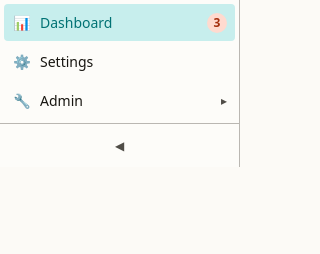
Test case: Sidebar › renders nested items when section expanded
Expected: the text "Users" is not shown
Click the text "Admin". click: (61, 100)
box: x1=40 y1=91 x2=83 y2=110
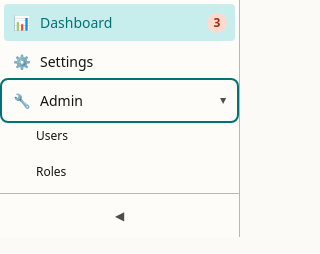
Expected: the text "Users" is shown, x1=36 y1=127 x2=68 y2=144
Expected: the text "Roles" is shown, x1=36 y1=163 x2=66 y2=180
